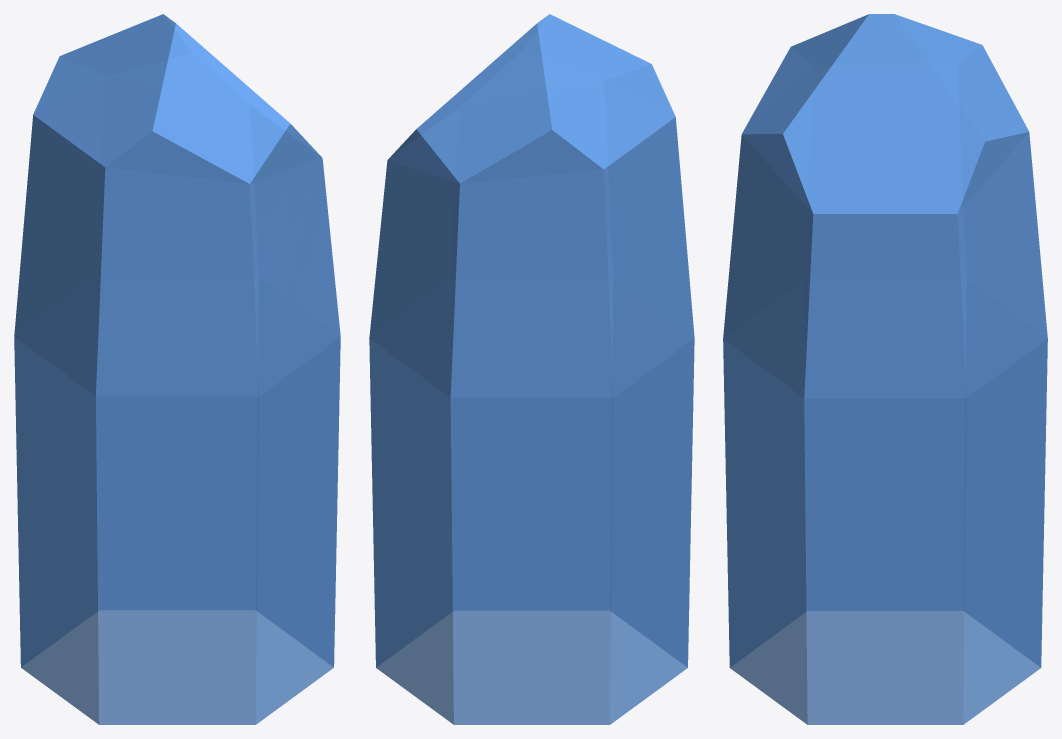
Rendered from Crystal_m_06.fbx.
3 views of the same model, side by side, from view 1: azimuth 30°, elevation 25°; view 2: azimuth 150°, elevation 25°; view 3: azimuth 270°, elevation 25° (orthographic).
Parts seen in each view (by area): view 1: Crystal_m_06; view 2: Crystal_m_06; view 3: Crystal_m_06.
Part boxes in pixels (x1,y1,x2,y2): Crystal_m_06: (14,14,340,724); Crystal_m_06: (369,14,694,724); Crystal_m_06: (723,14,1047,724).
Bounding box in the file's own units: 57.21 × 146 × 66.07.
